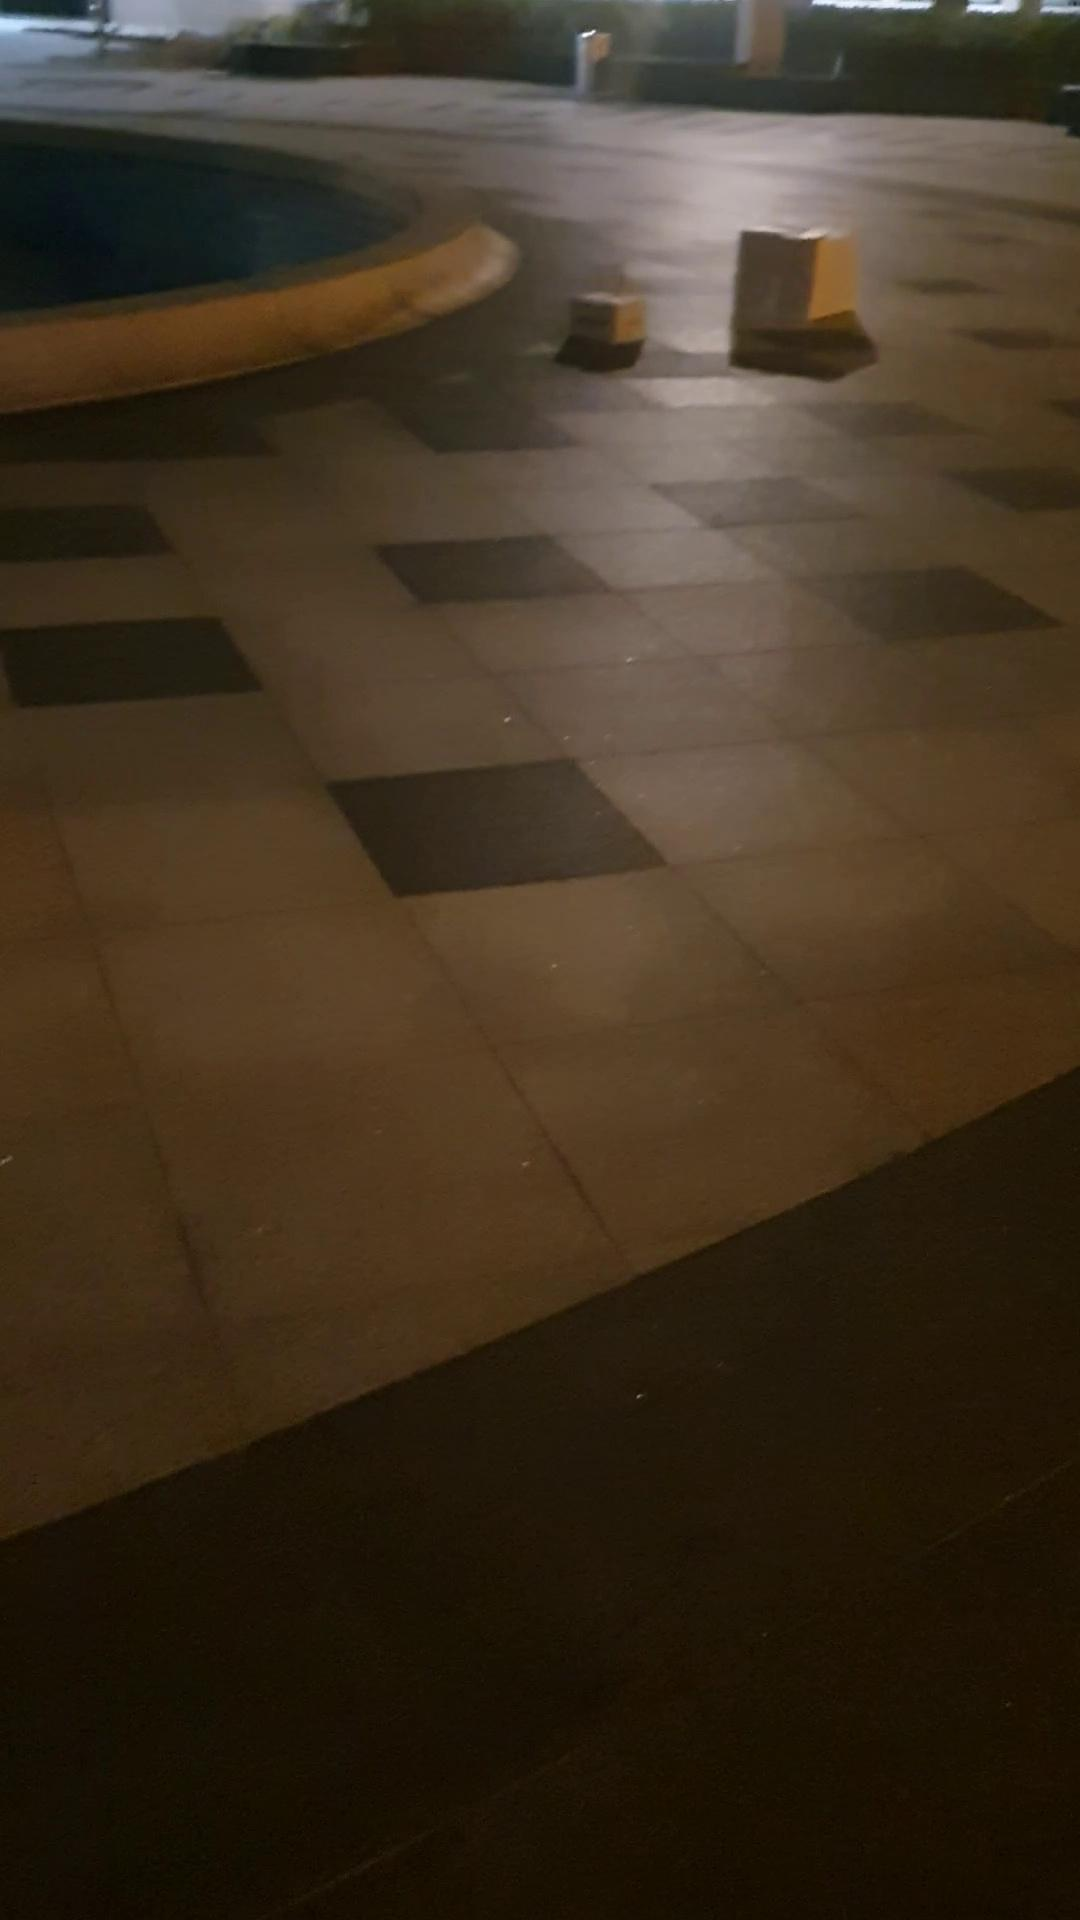Box: (727, 220, 866, 349), (574, 287, 655, 349)
